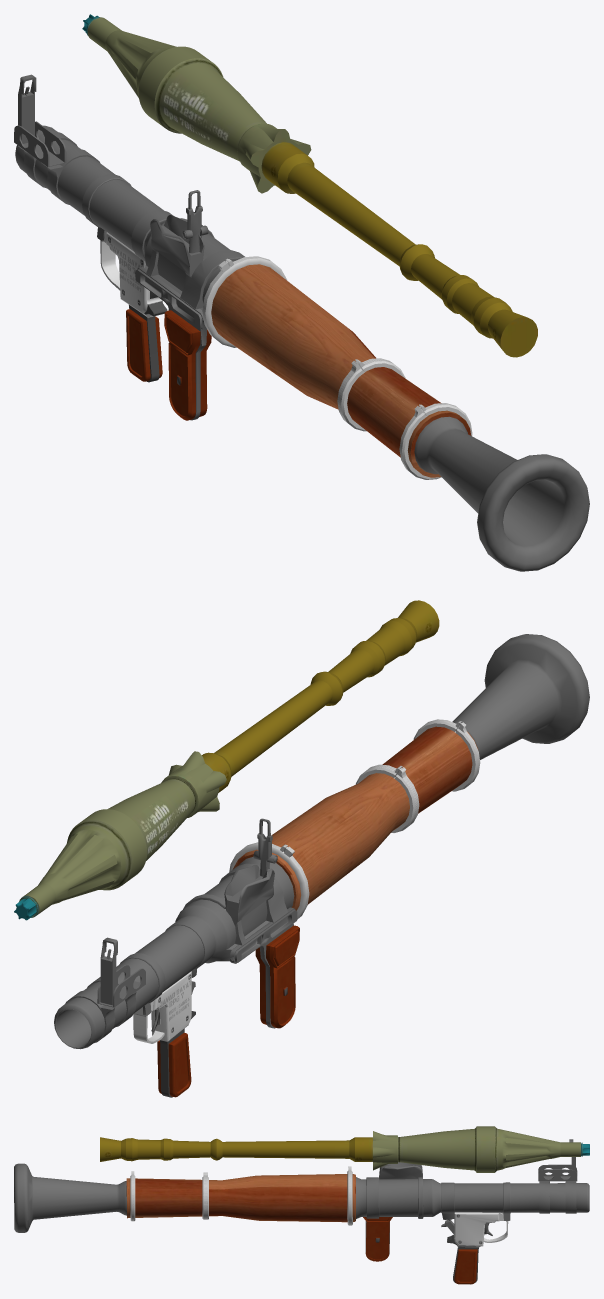
File: rpg.glb
3 renders of one model, top to bottom at view 1: azimuth 30°, elevation 25°; view 2: azimuth 150°, elevation 25°; view 3: azimuth 270°, elevation 25°, orthographic. The views are drawn at different scales.
Visible parts, largest first — view 1: pCube12, pCylinder8; view 2: pCube12, pCylinder8; view 3: pCube12, pCylinder8.
Boxes of the visible parts, bbox=[...] form: pCube12: bbox=[14, 74, 589, 571]; pCylinder8: bbox=[82, 14, 537, 357]; pCube12: bbox=[54, 634, 589, 1097]; pCylinder8: bbox=[14, 600, 439, 920]; pCube12: bbox=[14, 1139, 589, 1284]; pCylinder8: bbox=[100, 1126, 589, 1172].
Size of the model in its own units: 0.2131 by 0.4223 by 1.3.
Materials: 6 (5 with a texture image).
